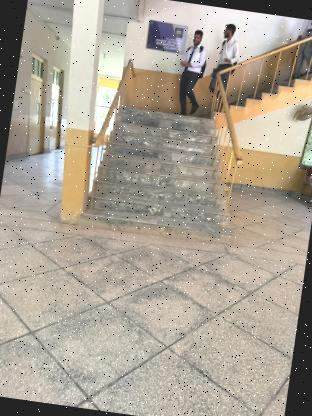person: (171, 23, 215, 114), (204, 19, 244, 108)
stair: (84, 96, 234, 244)
